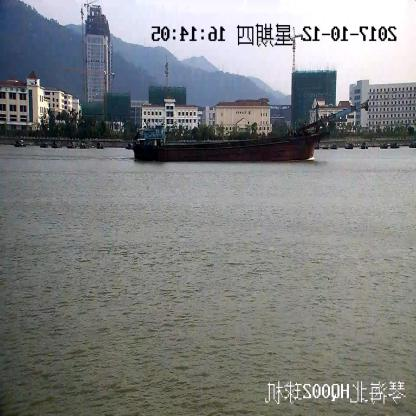Bulk Carrier: (133, 104, 367, 164)
